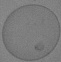small: (35, 42, 45, 51)
